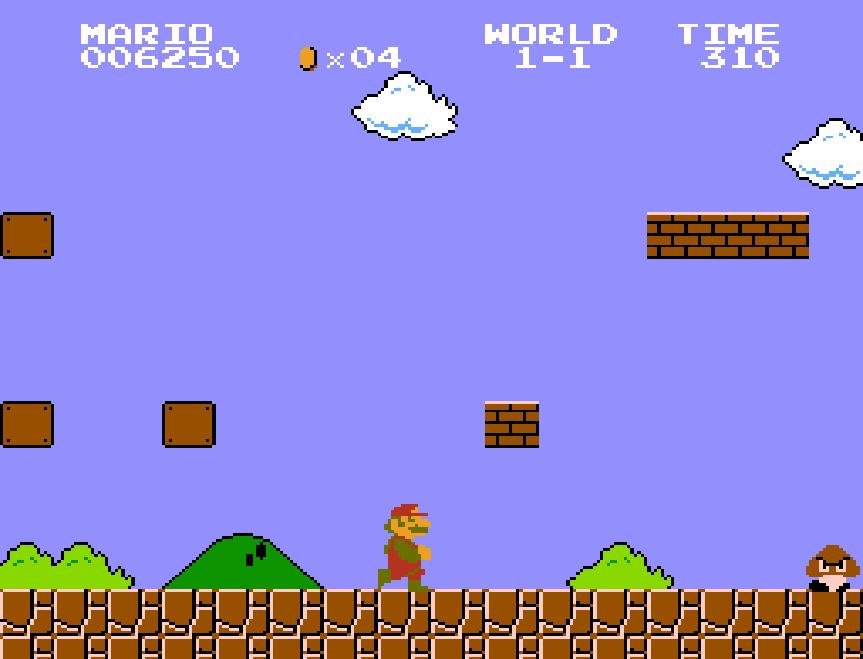big_mario: (376, 502, 434, 600)
